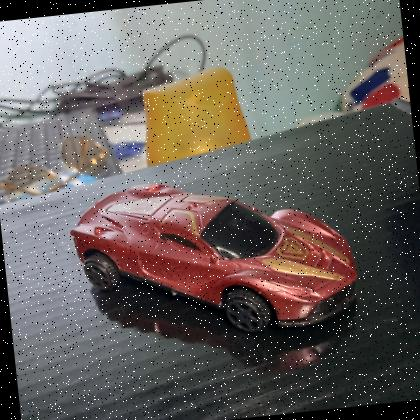Car: (59, 154, 368, 356)
